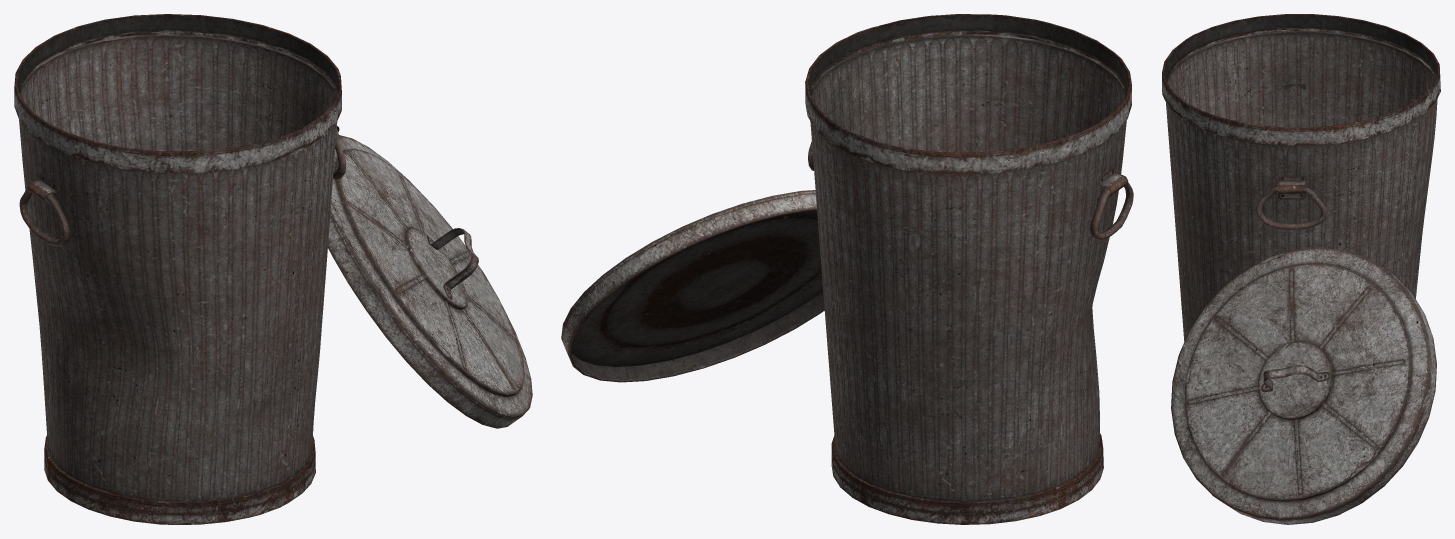
Rendered from trashcan4.glb.
3 renders of one model, left to right at view 1: azimuth 30°, elevation 25°; view 2: azimuth 150°, elevation 25°; view 3: azimuth 270°, elevation 25°, orthographic. The views are drawn at different scales.
Parts seen in each view (by area): view 1: Object_10; view 2: Object_10; view 3: Object_10.
Boxes of the visible parts, bbox=[...] form: Object_10: bbox=[14, 14, 532, 524]; Object_10: bbox=[561, 14, 1133, 524]; Object_10: bbox=[1162, 14, 1440, 524].
Bounding box in the file's own units: 0.8922 × 0.651 × 0.5109.
Materials: 1 (1 with a texture image).
